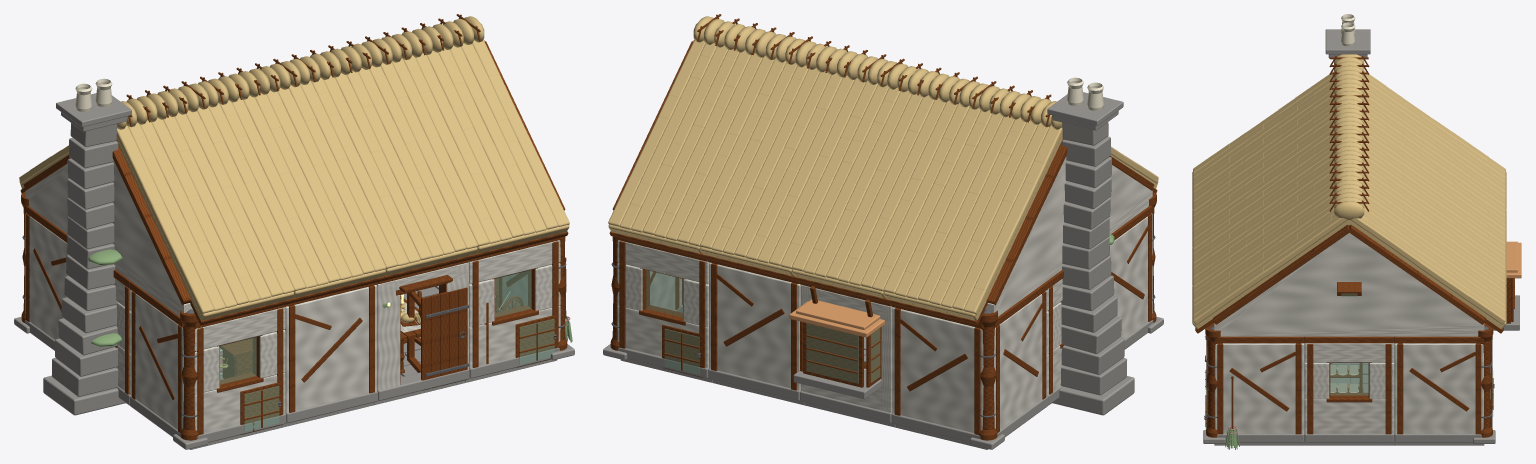
The model's file is witch-cottage-and-apothecary-hedge-witch-25562947-starter-scene__32485.glb.
The picture shows the model from 3 angles, left to right: view 1: azimuth 30°, elevation 25°; view 2: azimuth 150°, elevation 25°; view 3: azimuth 270°, elevation 25°; orthographic projection. The views are drawn at different scales.
Visible parts, largest first — view 1: 032-thatch-roof-section/1, 041-thatch-roof-section/1, 038-thatch-roof-section/1, 035-thatch-roof-section/1, 044-crooked-chimney-stack/0, 017-cob-wall-section/2, 026-gable-end-wall/0, 016-cob-wall-window-section/2, 019-cob-wall-window-section/2, 022-cob-wall-section/2, 018-cob-wall-door-section/door-cottage/oak, 018-cob-wall-door-section/2 (+33 smaller); view 2: 033-thatch-roof-section/1, 042-thatch-roof-section/1, 036-thatch-roof-section/1, 039-thatch-roof-section/1, 044-crooked-chimney-stack/0, 012-cob-wall-section/2, 014-cob-wall-section/2, 026-gable-end-wall/0, 015-cob-wall-window-section/2, 013-cob-wall-bay-window-section/1, 020-cob-wall-section/2, 022-cob-wall-section/2 (+27 smaller); view 3: 027-gable-end-wall/0, 041-thatch-roof-section/1, 042-thatch-roof-section/1, 023-cob-wall-section/2, 025-cob-wall-section/2, 024-cob-wall-window-section/2, 033-thatch-roof-section/1, 036-thatch-roof-section/1, 039-thatch-roof-section/1, 032-thatch-roof-section/1, 035-thatch-roof-section/1, 038-thatch-roof-section/1 (+26 smaller).
Part boxes in pixels (<box>): 032-thatch-roof-section/1: <box>116,107,294,320</box>; 041-thatch-roof-section/1: <box>392,39,569,253</box>; 038-thatch-roof-section/1: <box>300,62,477,275</box>; 035-thatch-roof-section/1: <box>208,84,386,298</box>; 044-crooked-chimney-stack/0: <box>43,93,131,415</box>; 017-cob-wall-section/2: <box>285,285,377,413</box>; 026-gable-end-wall/0: <box>25,160,192,316</box>; 016-cob-wall-window-section/2: <box>194,307,285,432</box>; 019-cob-wall-window-section/2: <box>469,240,560,368</box>; 022-cob-wall-section/2: <box>131,290,183,429</box>; 018-cob-wall-door-section/door-cottage/oak: <box>421,287,467,390</box>; 018-cob-wall-door-section/2: <box>376,262,468,390</box>; 033-thatch-roof-section/1: <box>883,107,1062,320</box>; 042-thatch-roof-section/1: <box>608,40,785,253</box>; 036-thatch-roof-section/1: <box>791,85,969,298</box>; 039-thatch-roof-section/1: <box>700,62,877,275</box>; 044-crooked-chimney-stack/0: <box>1047,92,1134,415</box>; 012-cob-wall-section/2: <box>892,307,983,432</box>; 014-cob-wall-section/2: <box>709,262,800,390</box>; 026-gable-end-wall/0: <box>985,156,1152,316</box>; 015-cob-wall-window-section/2: <box>617,240,709,368</box>; 013-cob-wall-bay-window-section/1: <box>799,282,891,387</box>; 020-cob-wall-section/2: <box>994,290,1046,429</box>; 022-cob-wall-section/2: <box>1109,213,1152,338</box>; 027-gable-end-wall/0: <box>1214,233,1484,336</box>; 041-thatch-roof-section/1: <box>1192,185,1351,328</box>; 042-thatch-roof-section/1: <box>1347,185,1506,328</box>; 023-cob-wall-section/2: <box>1394,343,1483,433</box>; 025-cob-wall-section/2: <box>1214,343,1304,433</box>; 024-cob-wall-window-section/2: <box>1304,343,1394,433</box>; 033-thatch-roof-section/1: <box>1364,71,1506,209</box>; 036-thatch-roof-section/1: <box>1364,109,1506,247</box>; 039-thatch-roof-section/1: <box>1364,147,1506,285</box>; 032-thatch-roof-section/1: <box>1192,71,1334,209</box>; 035-thatch-roof-section/1: <box>1192,109,1334,247</box>; 038-thatch-roof-section/1: <box>1192,147,1334,285</box>.
Bounding box in the file's own units: 9.69 × 6.52 × 7.32.
Materials: 12 (3 with a texture image).
